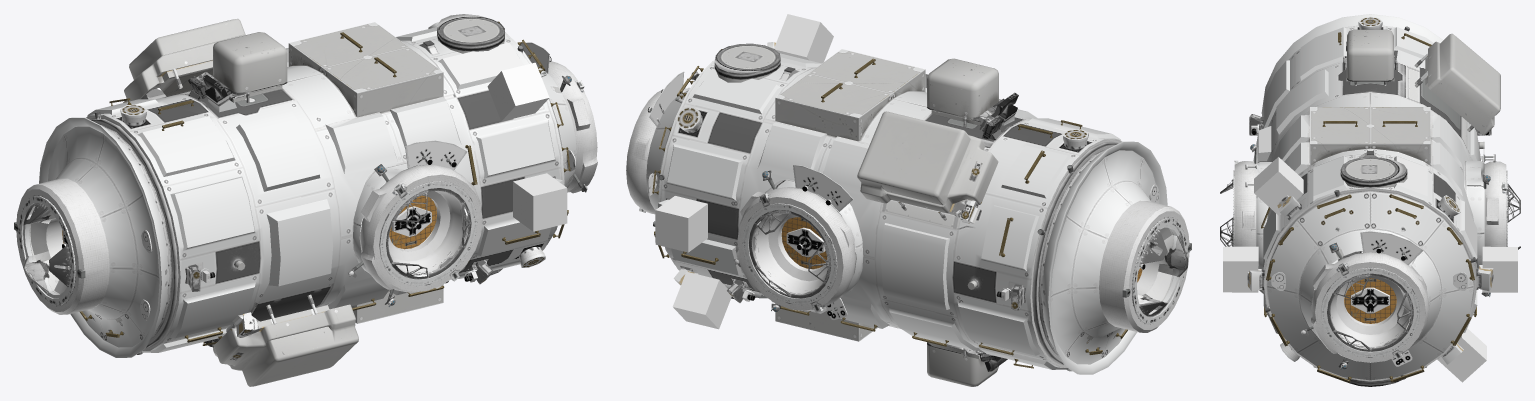
The model's file is gateway_ihab.glb.
3 renders of one model, left to right at view 1: azimuth 30°, elevation 25°; view 2: azimuth 150°, elevation 25°; view 3: azimuth 270°, elevation 25°, orthographic. The views are drawn at different scales.
Parts seen in each view (by area): view 1: I-Hab, NDS port active.005, NDS port passive.001, NDS port active.003, NDS port active hatch.005; view 2: I-Hab, NDS port active.004, NDS port passive.001, NDS port active.003, NDS port active hatch.004; view 3: I-Hab, NDS port active.003, NDS port active.004, NDS port active.005, NDS port active hatch.003.
Part boxes in pixels (x1=…): I-Hab: x1=39, y1=14, x2=576, y2=386; NDS port active.005: x1=348, y1=140, x2=482, y2=306; NDS port passive.001: x1=14, y1=178, x2=109, y2=314; NDS port active.003: x1=520, y1=42, x2=597, y2=193; NDS port active hatch.005: x1=389, y1=195, x2=436, y2=249; I-Hab: x1=646, y1=14, x2=1167, y2=386; NDS port active.004: x1=734, y1=165, x2=856, y2=312; NDS port passive.001: x1=1099, y1=200, x2=1191, y2=332; NDS port active.003: x1=626, y1=71, x2=699, y2=214; NDS port active hatch.004: x1=781, y1=217, x2=827, y2=269; I-Hab: x1=1223, y1=14, x2=1517, y2=386; NDS port active.003: x1=1300, y1=231, x2=1429, y2=369; NDS port active.004: x1=1481, y1=142, x2=1520, y2=296; NDS port active.005: x1=1220, y1=144, x2=1257, y2=246; NDS port active hatch.003: x1=1344, y1=278, x2=1396, y2=323.
Bounding box in the file's own units: 8.06 × 4.43 × 4.37.
Materials: 3 (3 with a texture image).
